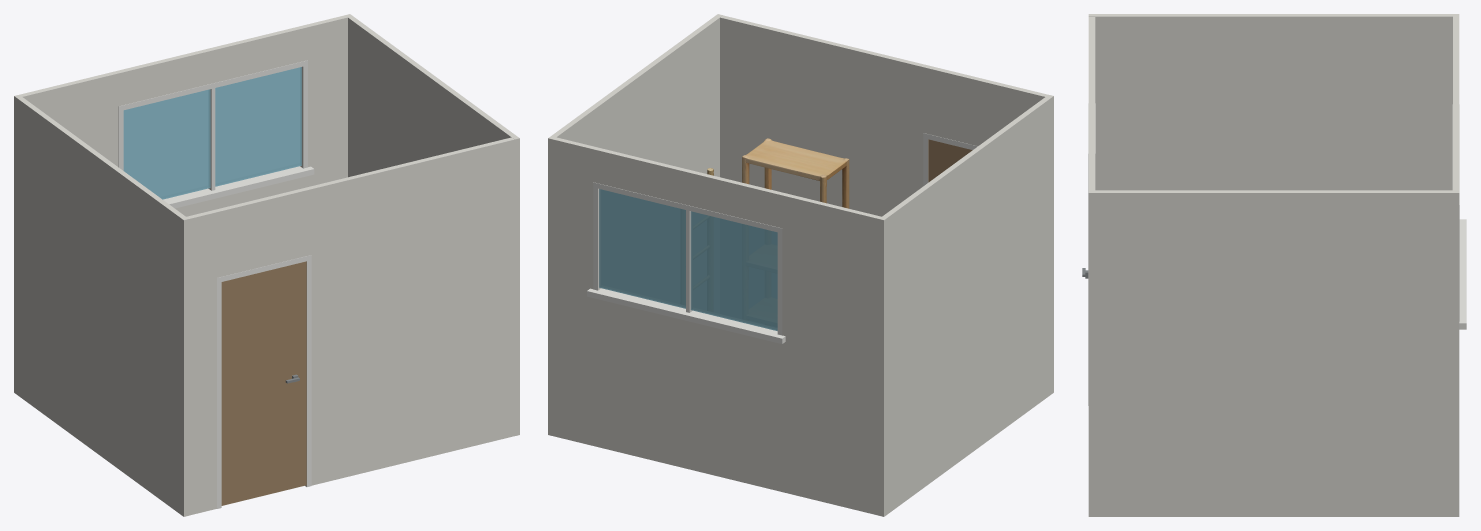
Rendered from scenesmith.glb.
The picture shows the model from 3 angles, left to right: view 1: azimuth 30°, elevation 25°; view 2: azimuth 150°, elevation 25°; view 3: azimuth 270°, elevation 25°; orthographic projection. The views are drawn at different scales.
Parts seen in each view (by area): view 1: scene_087_bathroom_south_wall, scene_087_bathroom_west_wall, scene_087_bathroom_north_wall, scene_087_bathroom_south_wall Door 0 | wood leaf, scene_087_bathroom_north_wall Window 0 | glazing, scene_087_bathroom_east_wall, scene_087_bathroom_north_wall Window 0 | jamb, scene_087_bathroom_south_wall Door 0 | jamb; view 2: scene_087_bathroom_north_wall, scene_087_bathroom_west_wall, scene_087_bathroom_south_wall, scene_087_bathroom_north_wall Window 0 | glazing, scene_087_bathroom_east_wall, scene_087_bathroom_north_wall Window 0 | jamb, furniture_group, scene_087_bathroom_south_wall Door 0 | wood leaf, scene_087_bathroom_south_wall Door 0 | jamb; view 3: scene_087_bathroom_east_wall, scene_087_bathroom_west_wall, scene_087_bathroom_south_wall, scene_087_bathroom_north_wall, scene_087_bathroom_north_wall Window 0 | jamb.
Part boxes in pixels (x1=…): scene_087_bathroom_south_wall: x1=186, y1=137, x2=514, y2=515; scene_087_bathroom_west_wall: x1=14, y1=94, x2=188, y2=516; scene_087_bathroom_north_wall: x1=14, y1=15, x2=347, y2=394; scene_087_bathroom_south_wall Door 0 | wood leaf: x1=221, y1=261, x2=306, y2=505; scene_087_bathroom_north_wall Window 0 | glazing: x1=123, y1=67, x2=301, y2=199; scene_087_bathroom_east_wall: x1=345, y1=14, x2=519, y2=435; scene_087_bathroom_north_wall Window 0 | jamb: x1=118, y1=60, x2=314, y2=208; scene_087_bathroom_south_wall Door 0 | jamb: x1=217, y1=255, x2=311, y2=508; scene_087_bathroom_north_wall: x1=548, y1=137, x2=887, y2=516; scene_087_bathroom_west_wall: x1=879, y1=94, x2=1053, y2=514; scene_087_bathroom_south_wall: x1=720, y1=15, x2=1047, y2=216; scene_087_bathroom_north_wall Window 0 | glazing: x1=599, y1=189, x2=777, y2=330; scene_087_bathroom_east_wall: x1=548, y1=14, x2=722, y2=176; scene_087_bathroom_north_wall Window 0 | jamb: x1=587, y1=182, x2=785, y2=343; furniture_group: x1=707, y1=138, x2=849, y2=208; scene_087_bathroom_south_wall Door 0 | wood leaf: x1=928, y1=139, x2=972, y2=182; scene_087_bathroom_south_wall Door 0 | jamb: x1=923, y1=133, x2=977, y2=185; scene_087_bathroom_east_wall: x1=1088, y1=190, x2=1459, y2=516; scene_087_bathroom_west_wall: x1=1088, y1=14, x2=1459, y2=190; scene_087_bathroom_south_wall: x1=1088, y1=17, x2=1095, y2=516; scene_087_bathroom_north_wall: x1=1453, y1=16, x2=1459, y2=190; scene_087_bathroom_north_wall Window 0 | jamb: x1=1452, y1=104, x2=1466, y2=329.
Bounding box in the file's own units: 3.2 × 2.71 × 2.9.
14 materials, 8 textured.
